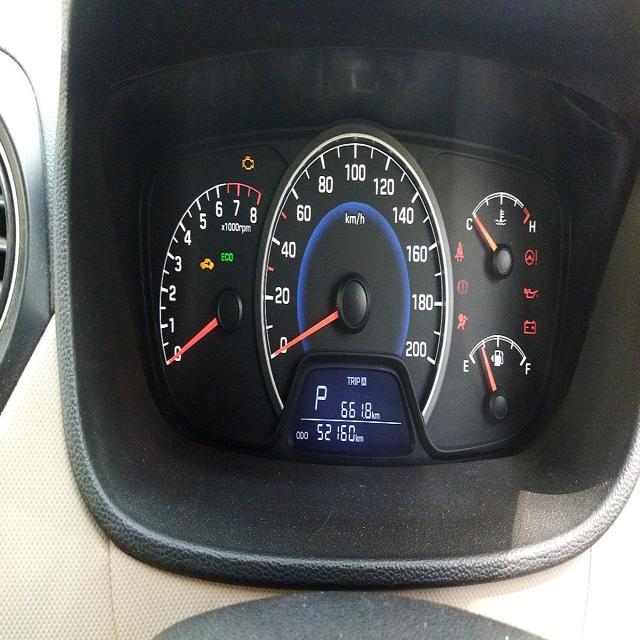odometer: (314, 417, 357, 445)
